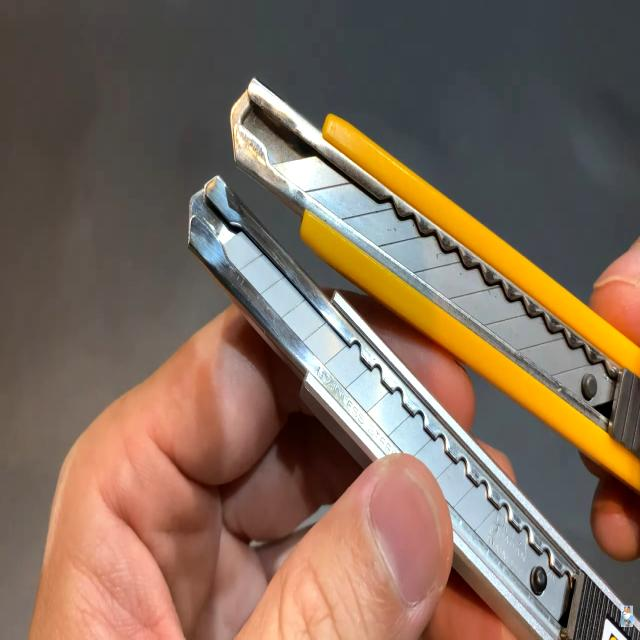cutter: (104, 60, 640, 640)
